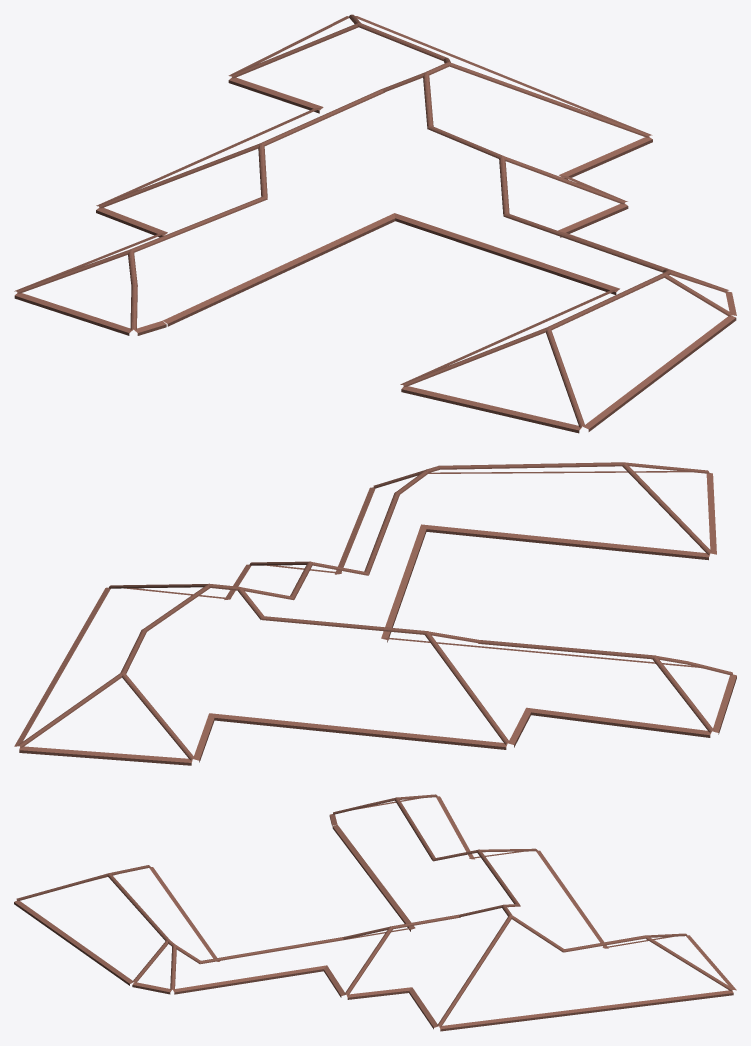
3 views of the same model, one above another, from view 1: azimuth 30°, elevation 25°; view 2: azimuth 150°, elevation 25°; view 3: azimuth 270°, elevation 25° (orthographic). The views are drawn at different scales.
Parts seen in each view (by area): view 1: detail; view 2: detail; view 3: detail.
Part boxes in pixels (<box>): detail: <box>14,14,736,433</box>; detail: <box>14,462,736,765</box>; detail: <box>14,794,736,1031</box>.
Bounding box in the file's own units: 34.61 × 4.23 × 45.12.
